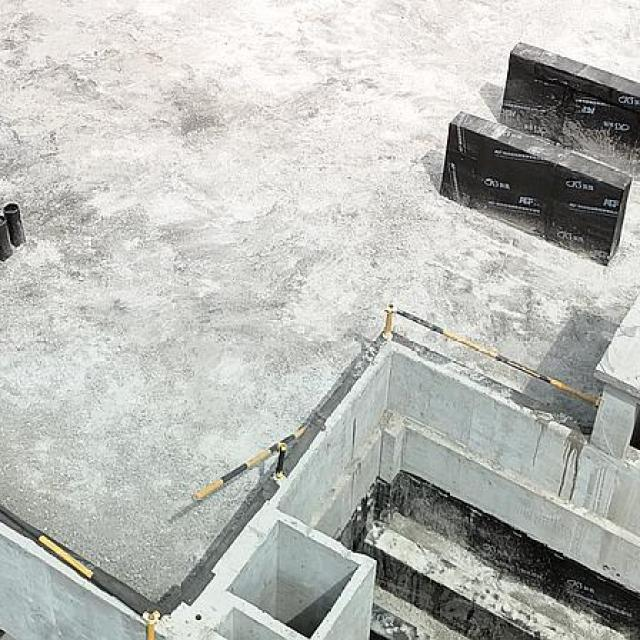edge_guardrail: (384, 303, 600, 410), (0, 504, 159, 640), (192, 425, 308, 505)
